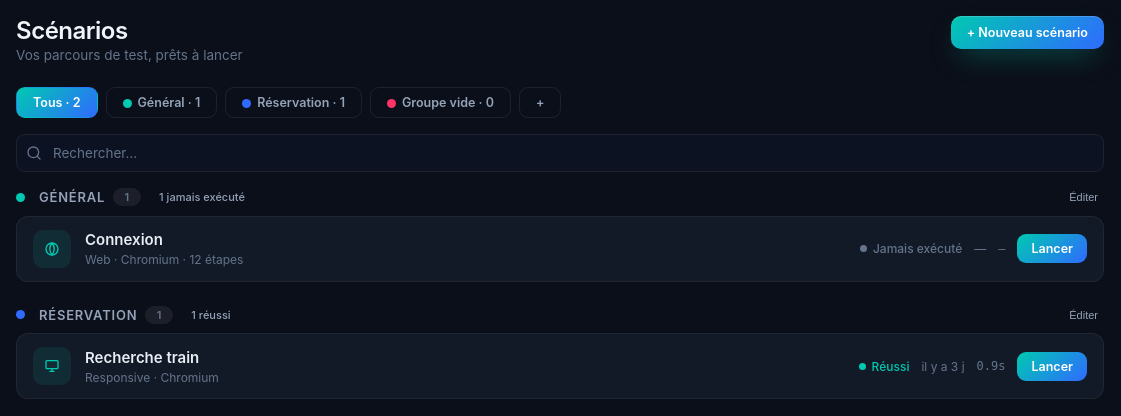
it: HubLibrary › sélectionner un groupe vide affiche son en-tête et son bouton Éditer
Expected: the text "Connexion" is shown, 85,230 -> 163,249
What coordinates should you click on to do the following:
click the button "Groupe vide · 0"
I would click on:
 (440, 102)
Its box is 370,87 -> 511,118.
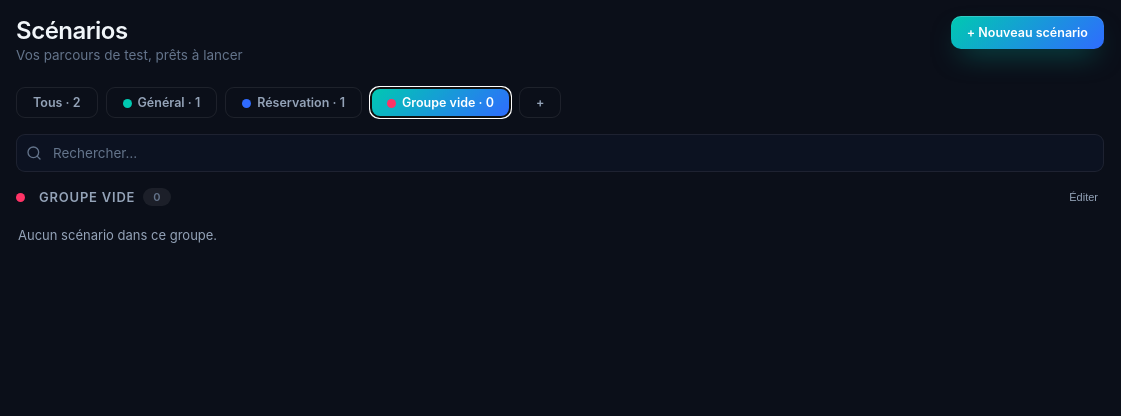
Expected: the heading "Groupe vide 0 Éditer" is shown, 16,188 -> 1104,206
Expected: the text "Aucun scénario dans ce groupe." is shown, 18,227 -> 217,243
Expected: the text "Connexion" is gone
